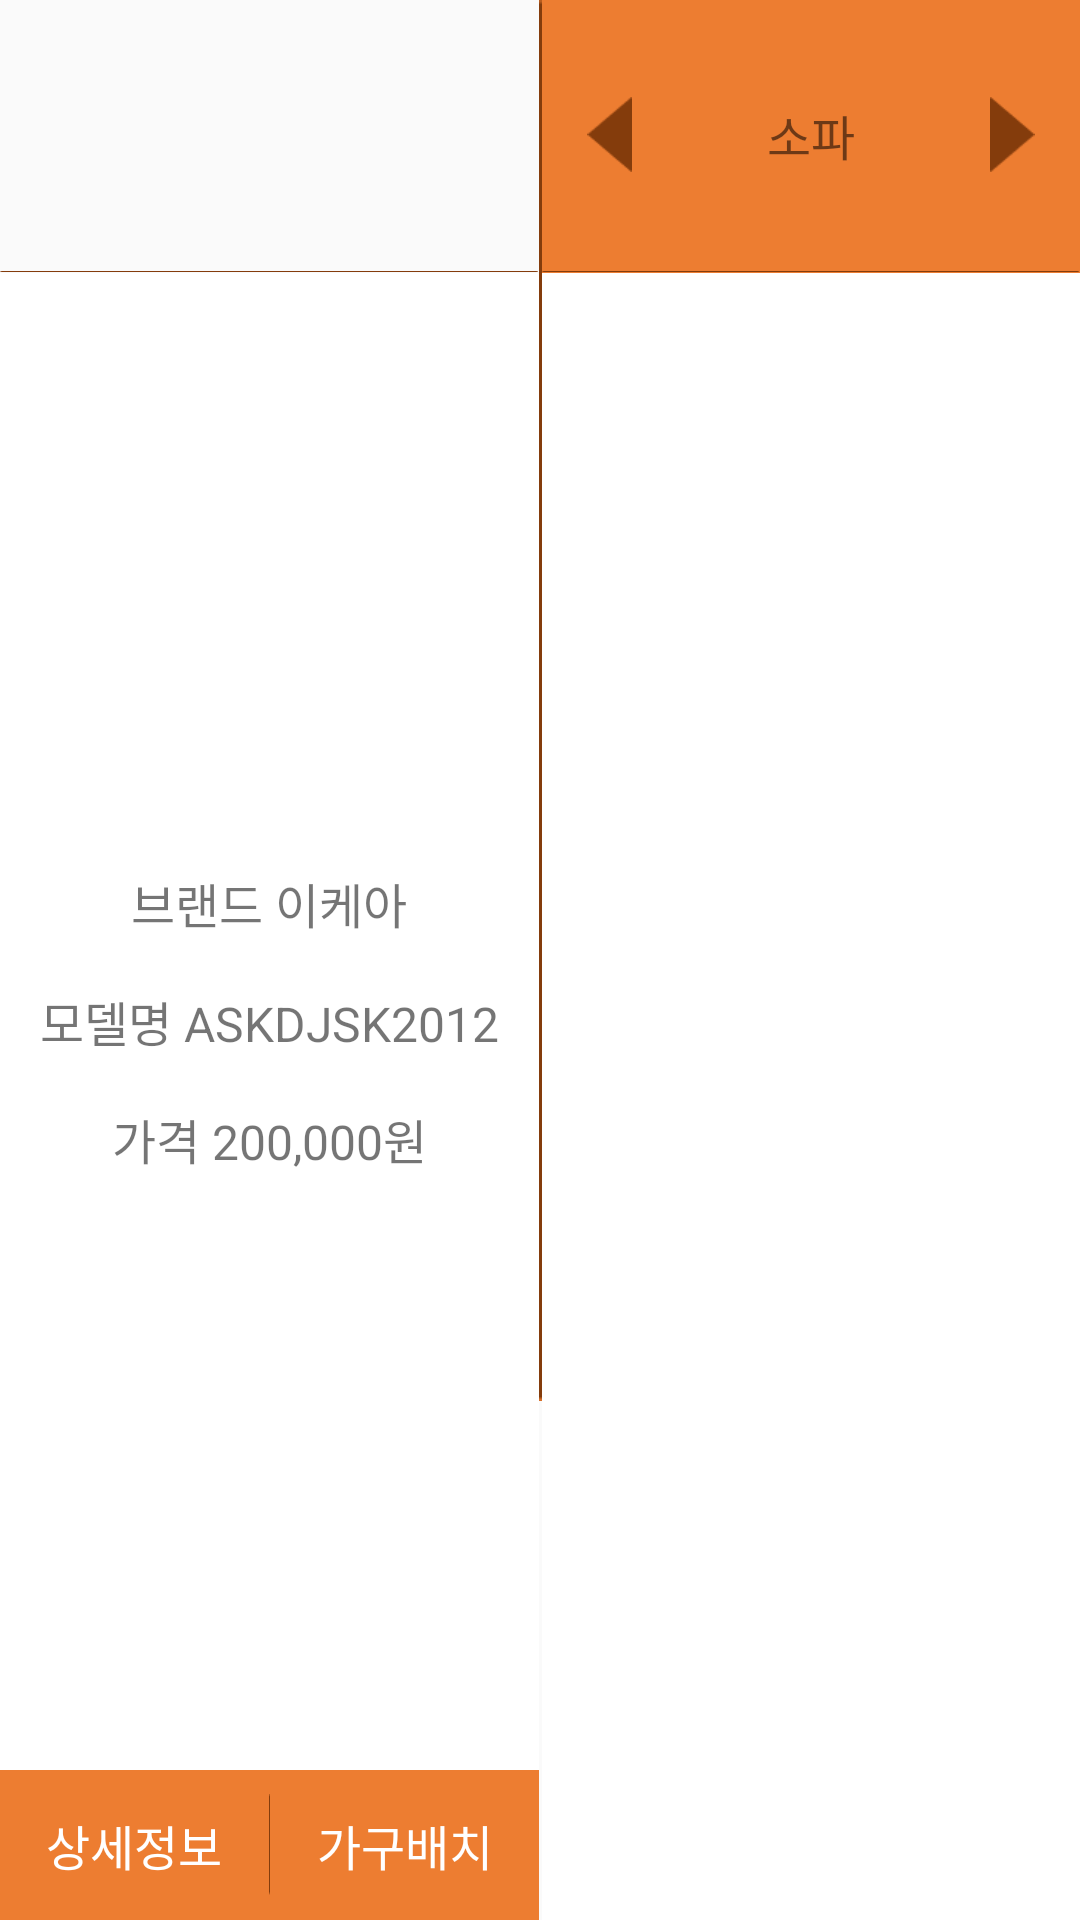

Icons on this 1080w x 1920h Android screen, each with the point to tap as (x=x, y=y):
left arrow: (x=609, y=134)
right arrow: (x=1012, y=134)
